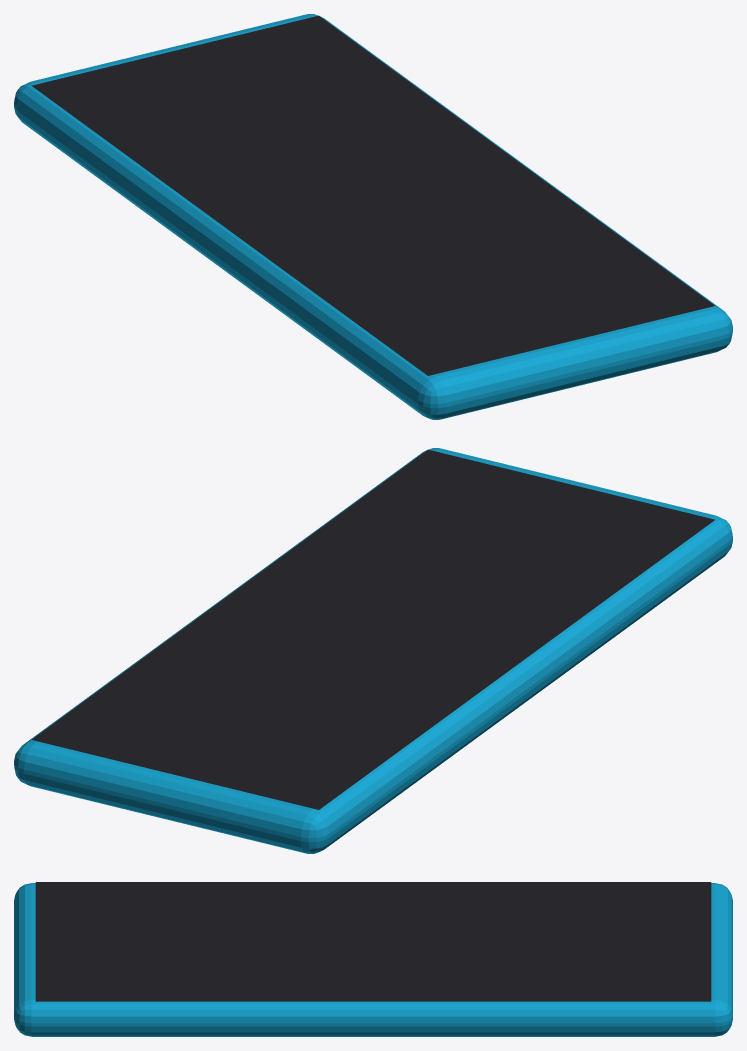
File: Phone_89.glb
The picture shows the model from 3 angles, top to bottom: view 1: azimuth 30°, elevation 25°; view 2: azimuth 150°, elevation 25°; view 3: azimuth 270°, elevation 25°; orthographic projection. The views are drawn at different scales.
Visible parts, largest first — view 1: Phone_Screen, Phone_Body; view 2: Phone_Screen, Phone_Body; view 3: Phone_Screen, Phone_Body.
Boxes of the visible parts, left/top/right/bottom form: Phone_Screen: left=32, top=15, right=714, bottom=375; Phone_Body: left=14, top=14, right=732, bottom=419; Phone_Screen: left=32, top=449, right=714, bottom=809; Phone_Body: left=14, top=448, right=732, bottom=853; Phone_Screen: left=35, top=882, right=711, bottom=1001; Phone_Body: left=14, top=883, right=732, bottom=1036.
Bounding box in the file's own units: 0.0718 × 0.0092 × 0.1679.
